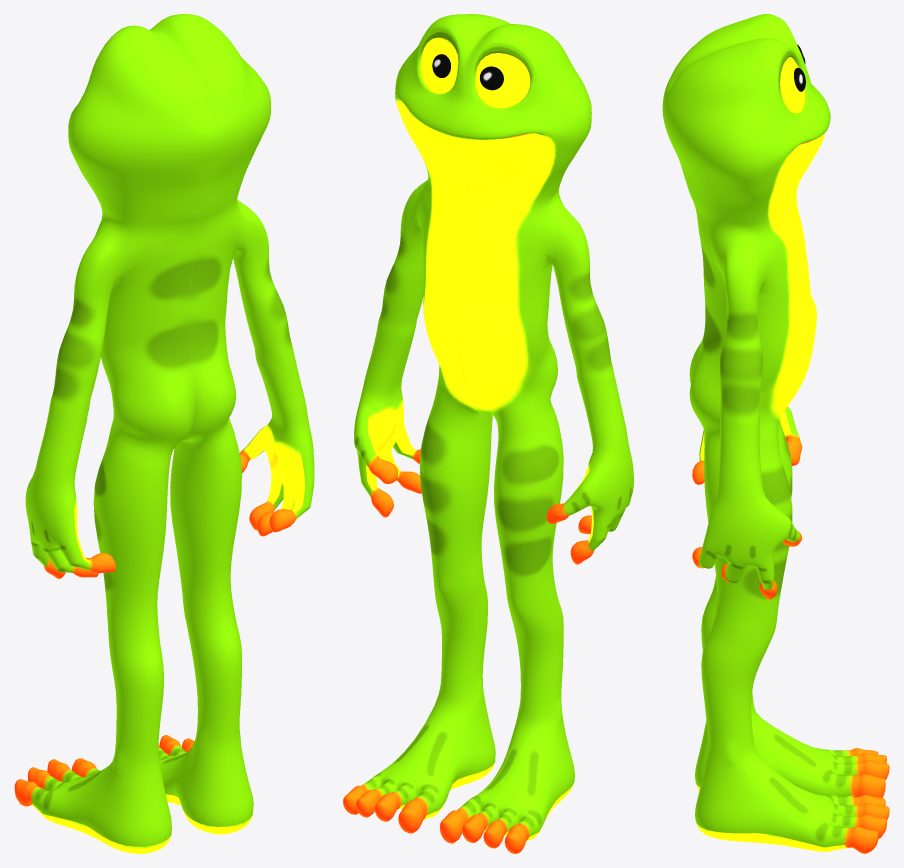
Rendered from rana.glb.
3 views of the same model, side by side, from view 1: azimuth 30°, elevation 25°; view 2: azimuth 150°, elevation 25°; view 3: azimuth 270°, elevation 25° (orthographic). The views are drawn at different scales.
Parts seen in each view (by area): view 1: Cube; view 2: Cube, Sphere; view 3: Cube, Sphere.
Boxes of the visible parts, <box> form: Cube: <box>14,14,314,853</box>; Cube: <box>343,14,633,853</box>; Sphere: <box>420,37,530,108</box>; Cube: <box>662,14,889,853</box>; Sphere: <box>780,57,805,113</box>.
Size of the model in its own units: 4.97 by 14.02 by 3.67.
Materials: 3 (1 with a texture image).
